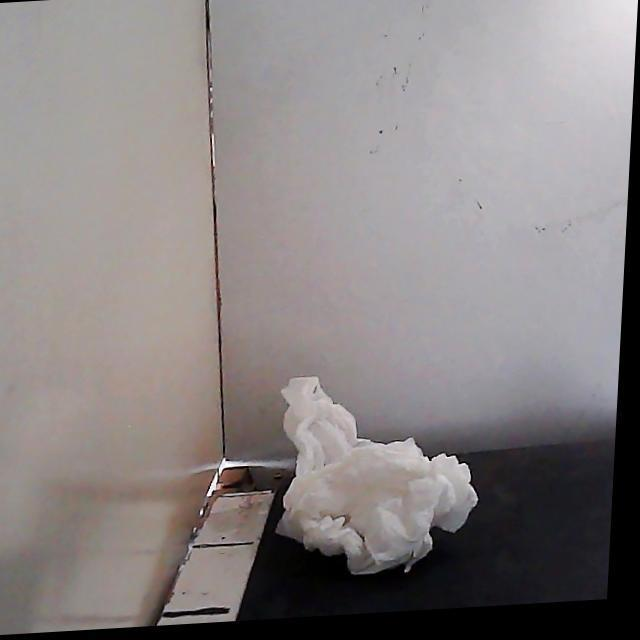papel: (276, 377, 477, 574)
